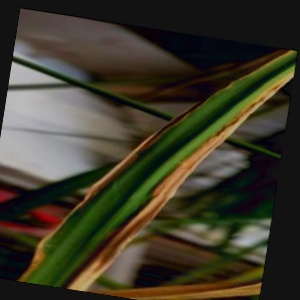Leaf_Blast: (34, 198, 116, 300)
